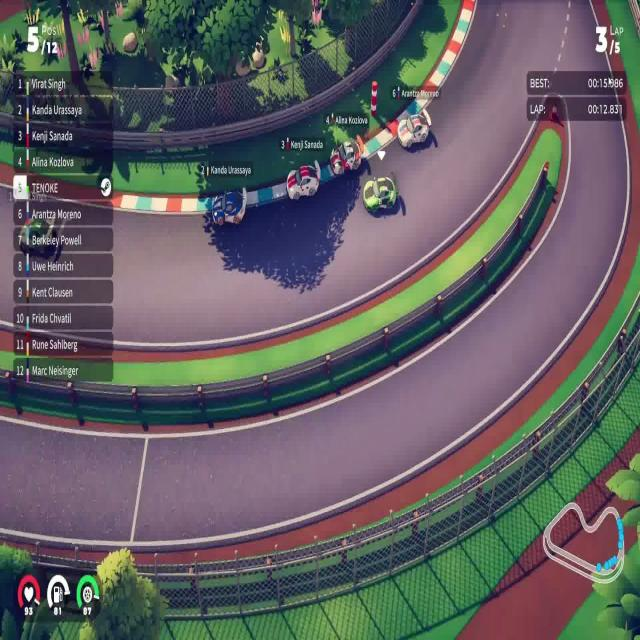car: (211, 186, 247, 228), (397, 107, 432, 150), (286, 159, 321, 201), (362, 174, 398, 214), (329, 138, 362, 177)
